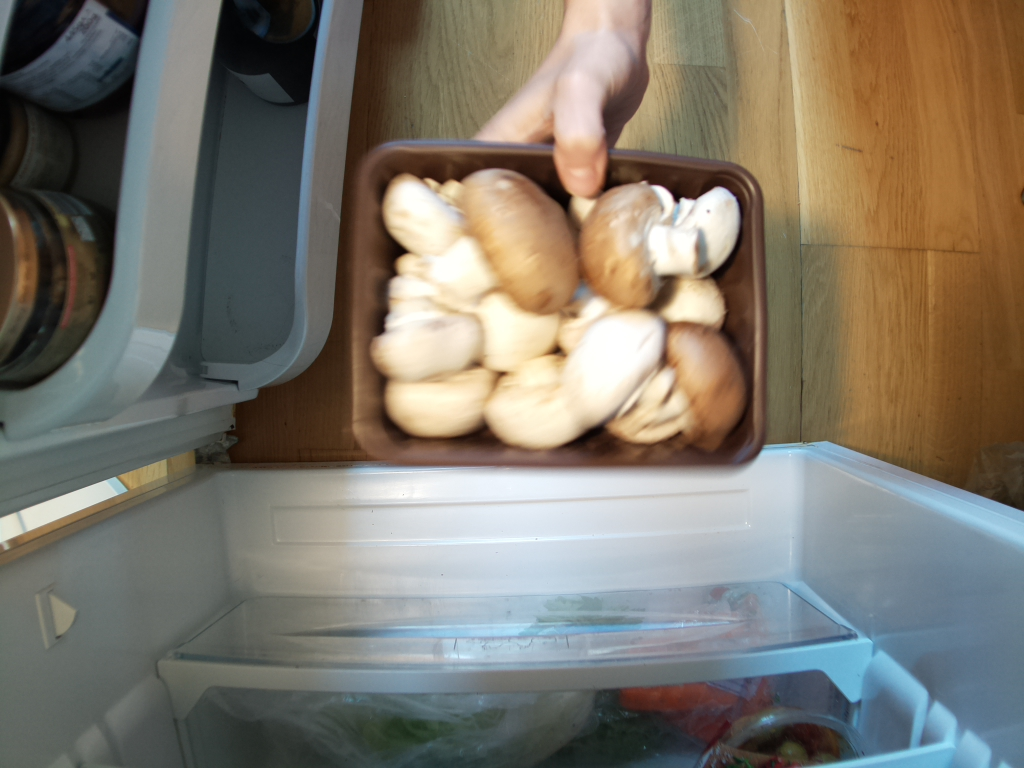mushrooms: (345, 142, 769, 479)
